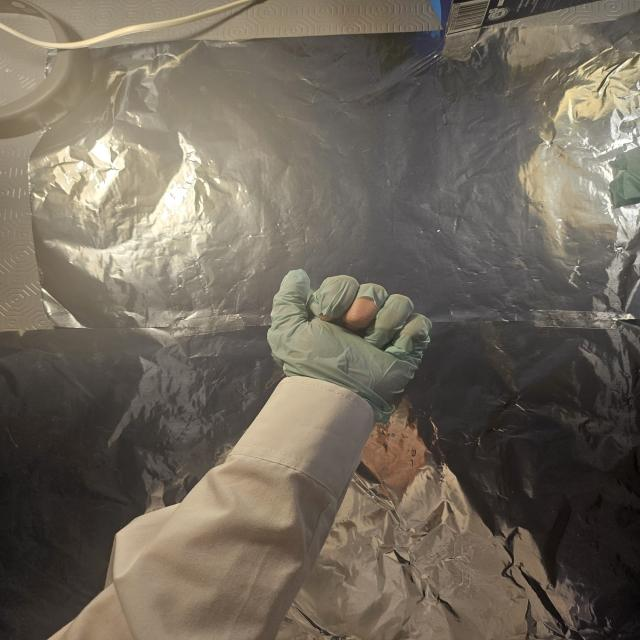gloves_damaged: (265, 268, 435, 424)
